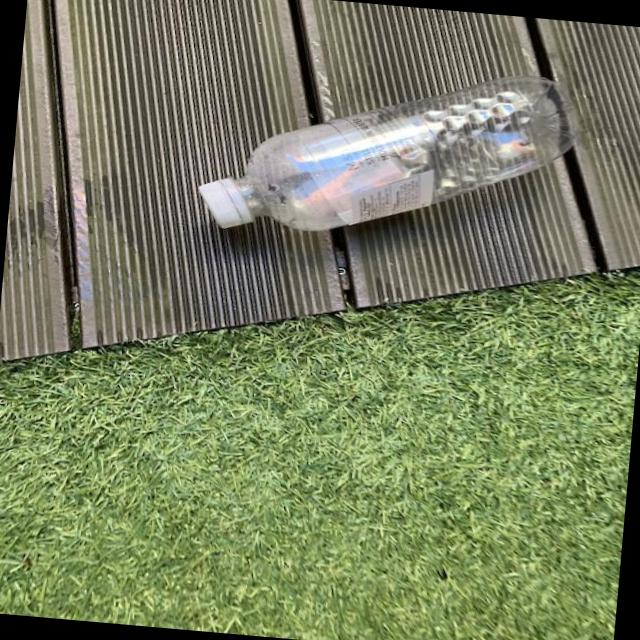plastic_bottle: (195, 48, 584, 258)
